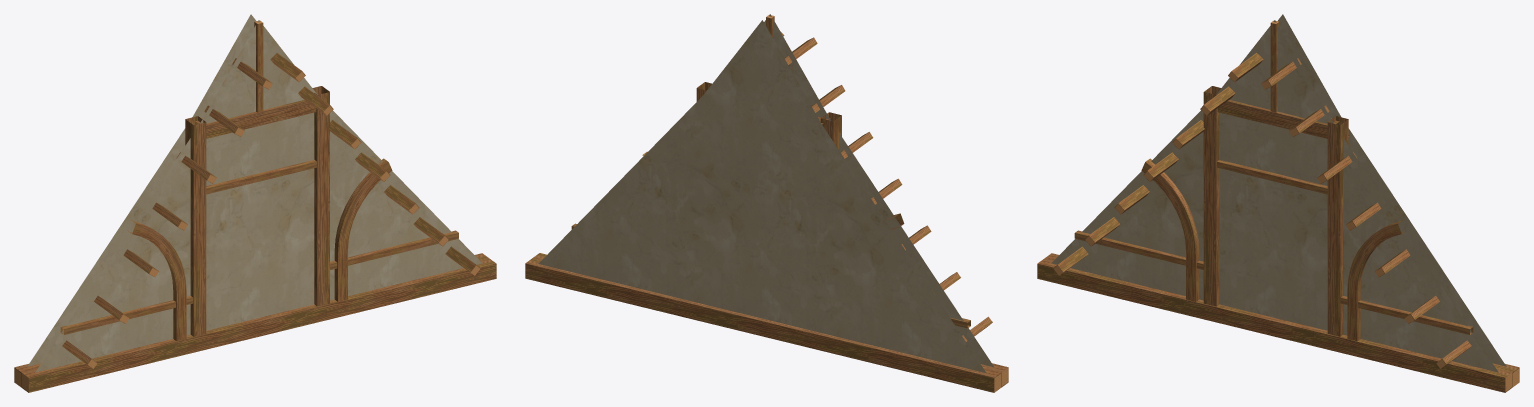
The model's file is Roof_Front_Brick8.gltf.
3 views of the same model, side by side, from view 1: azimuth 30°, elevation 25°; view 2: azimuth 150°, elevation 25°; view 3: azimuth 330°, elevation 25° (orthographic).
Visible parts, largest first — view 1: Roof_Front_Brick8; view 2: Roof_Front_Brick8; view 3: Roof_Front_Brick8.
Part boxes in pixels (left/top/right/bottom): Roof_Front_Brick8: left=14, top=14, right=496, bottom=392; Roof_Front_Brick8: left=525, top=14, right=1008, bottom=392; Roof_Front_Brick8: left=1037, top=14, right=1519, bottom=392.
Size of the model in its own units: 8.51 by 5.45 by 1.13.
2 materials, 2 textured.
